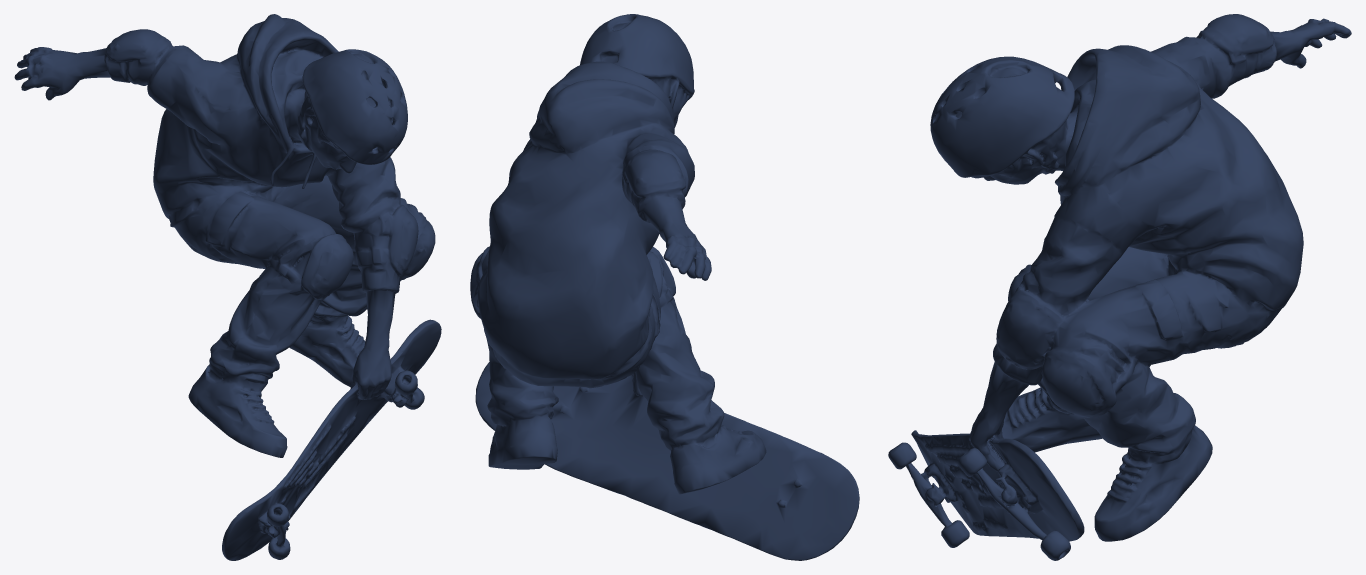
File: skater.glb
3 views of the same model, side by side, from view 1: azimuth 30°, elevation 25°; view 2: azimuth 150°, elevation 25°; view 3: azimuth 270°, elevation 25° (orthographic). The views are drawn at different scales.
Visible parts, largest first — view 1: Skater; view 2: Skater; view 3: Skater.
Boxes of the visible parts, box(x1,y1,x2,y2) form: Skater: box(14, 14, 441, 560); Skater: box(470, 14, 859, 560); Skater: box(888, 14, 1351, 560).
Bounding box in the file's own units: 1.34 × 1.91 × 1.48.
